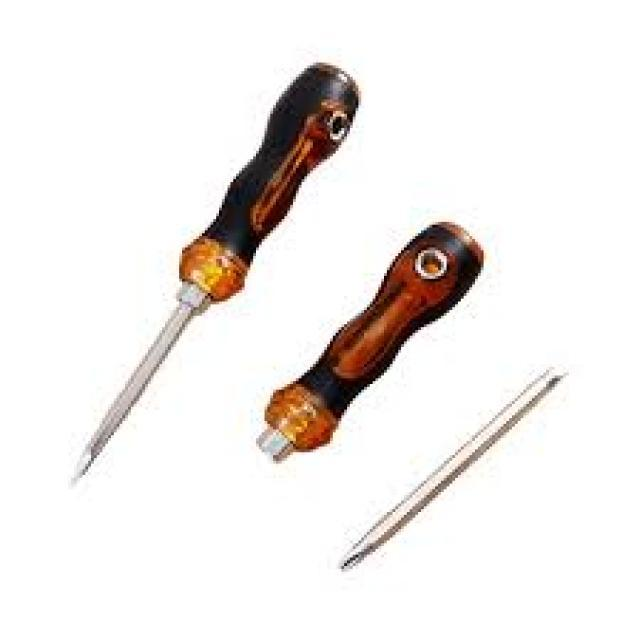screwdriver: (61, 57, 374, 495)
